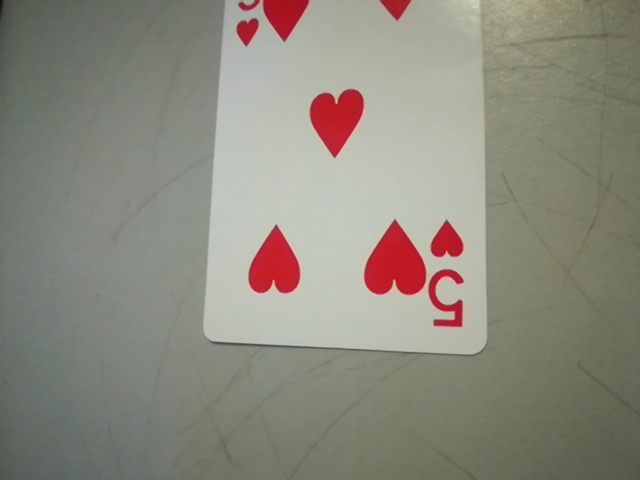hx 5: (426, 217, 481, 340)
